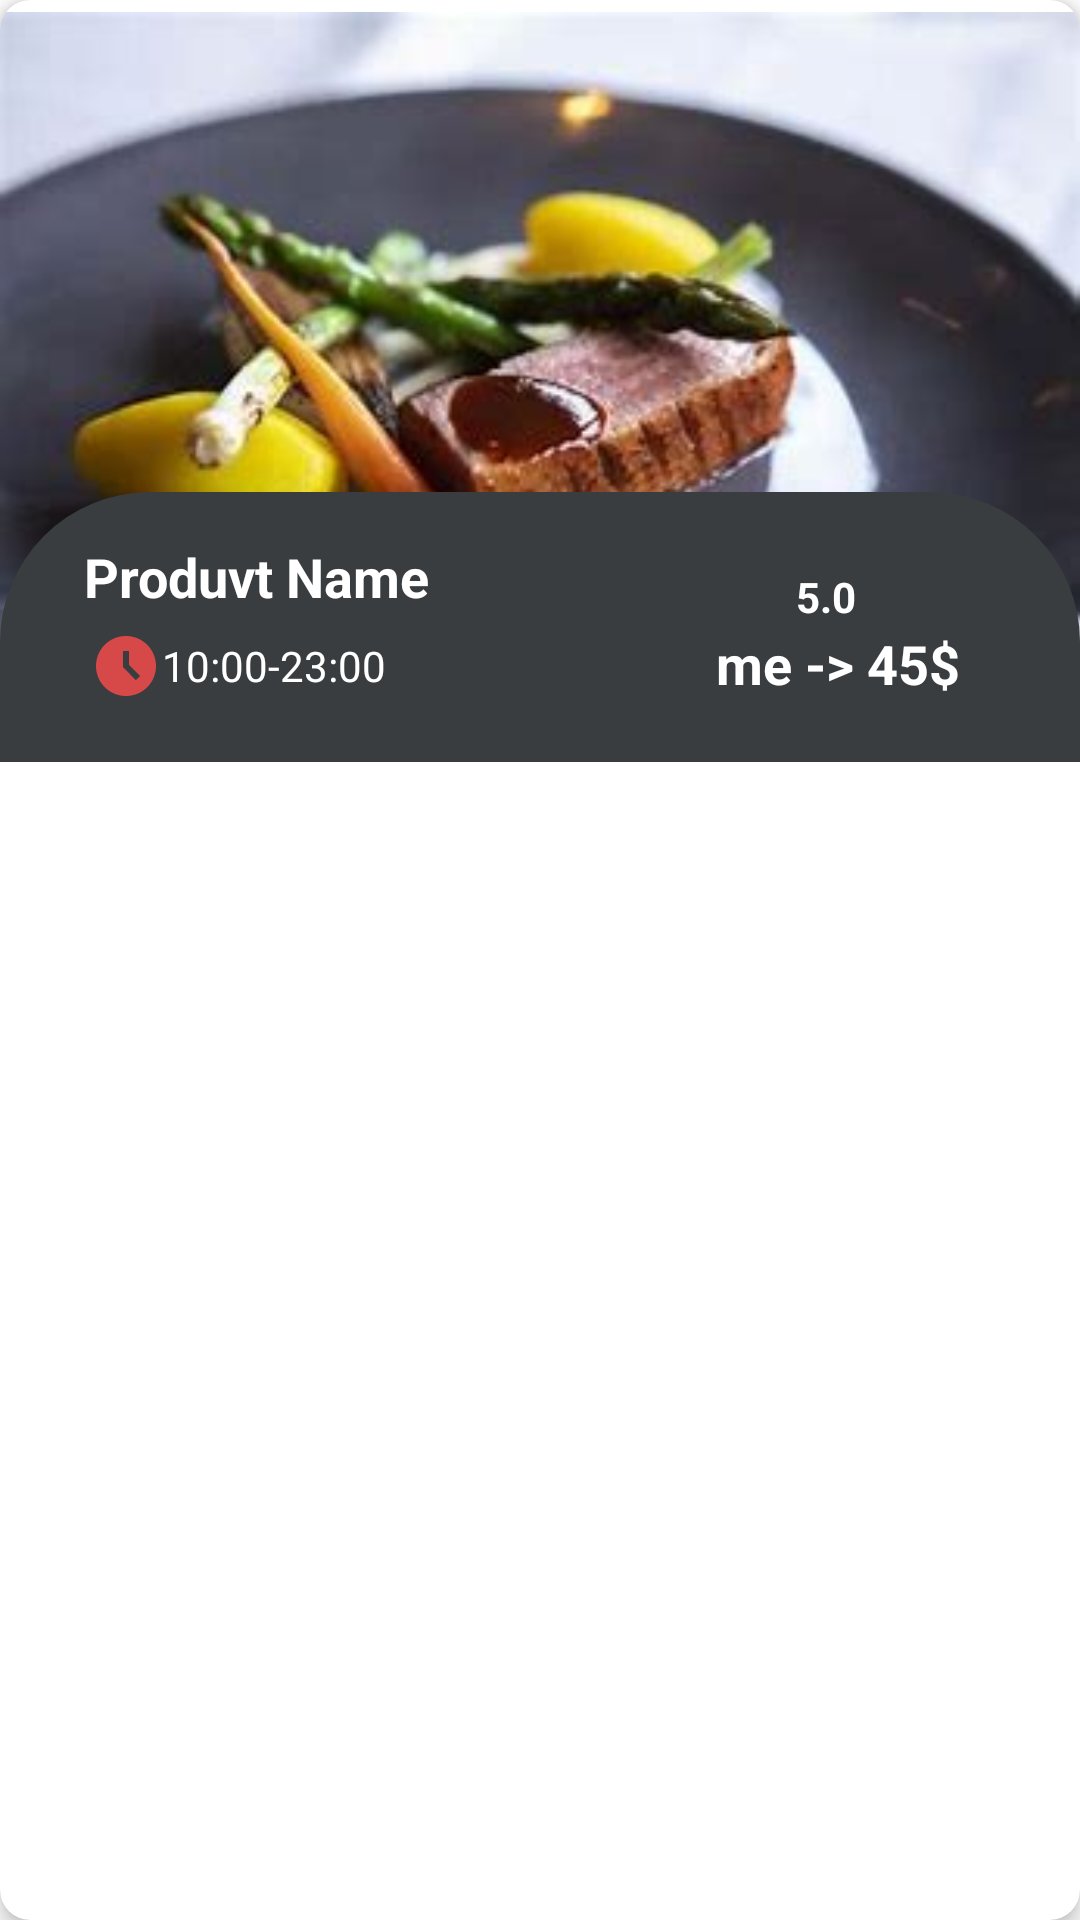

Locate icon controls on the screen. Image size 1080px×1920px, boxes as (x1, y1, x2, y2).
time: (96, 636, 156, 696)
